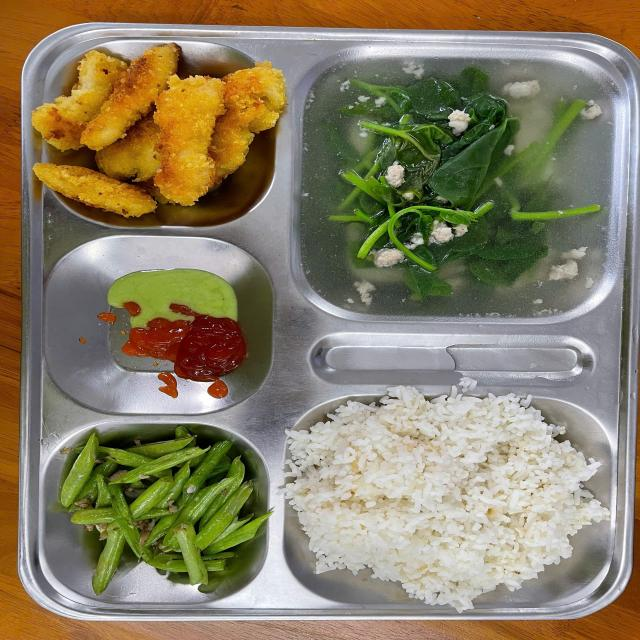cachien: (35, 51, 278, 213)
canhrau: (305, 58, 613, 320)
dauque: (58, 433, 255, 595)
salad: (286, 400, 596, 596)
